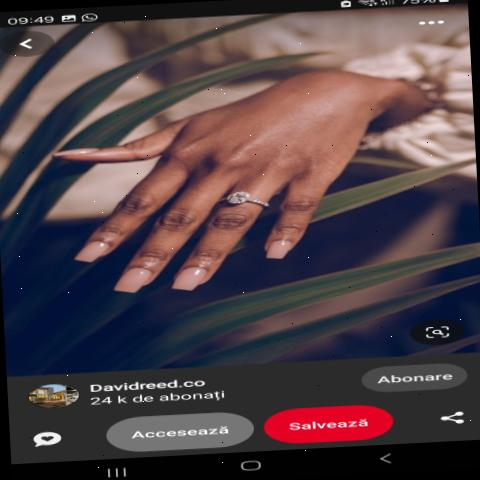hands: (47, 33, 432, 336)
